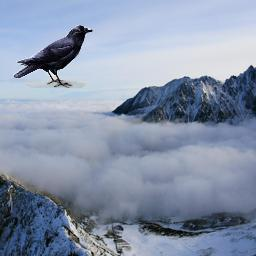Crow: (13, 25, 93, 88)
